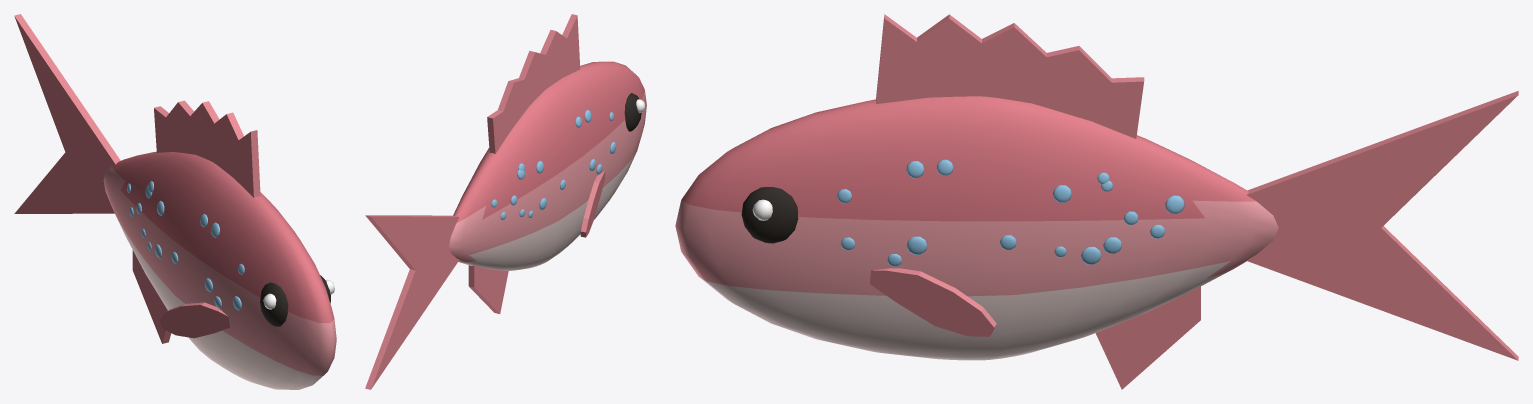
The model's file is fish-sea-bream.glb.
The picture shows the model from 3 angles, left to right: view 1: azimuth 30°, elevation 25°; view 2: azimuth 150°, elevation 25°; view 3: azimuth 270°, elevation 25°; orthographic projection. The views are drawn at different scales.
Parts seen in each view (by area): view 1: fish; view 2: fish; view 3: fish.
Part boxes in pixels (bbox=[...]): fish: bbox=[14, 14, 336, 389]; fish: bbox=[365, 14, 646, 389]; fish: bbox=[675, 14, 1518, 389].
Size of the model in its own units: 0.0971 by 0.2383 by 0.49.
